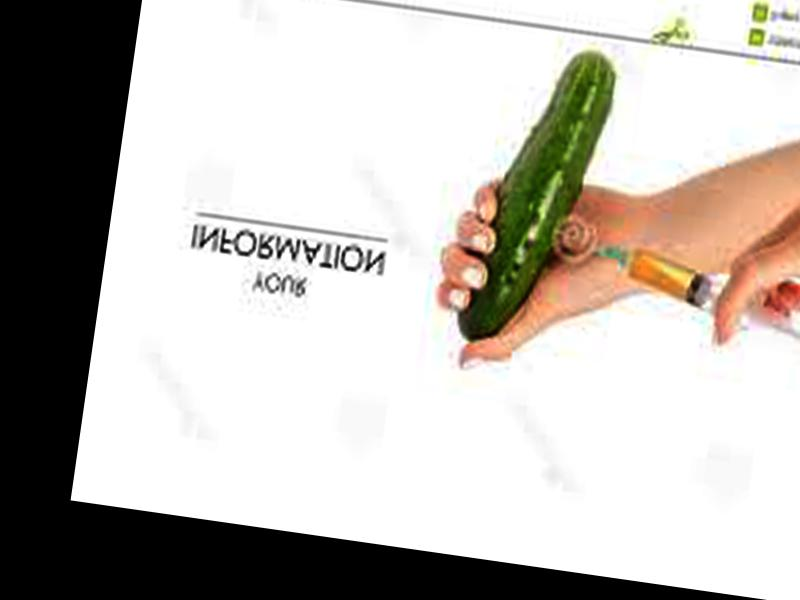Cucumber: (455, 38, 618, 355)
